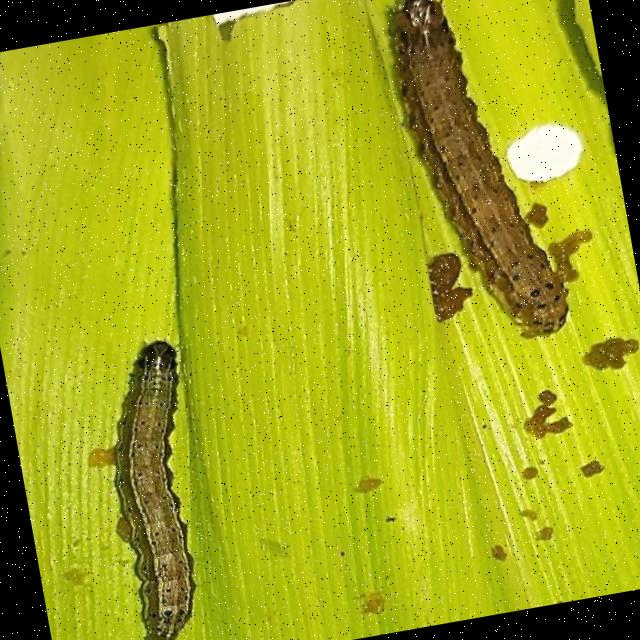worm: (381, 1, 609, 355), (73, 335, 230, 640)
